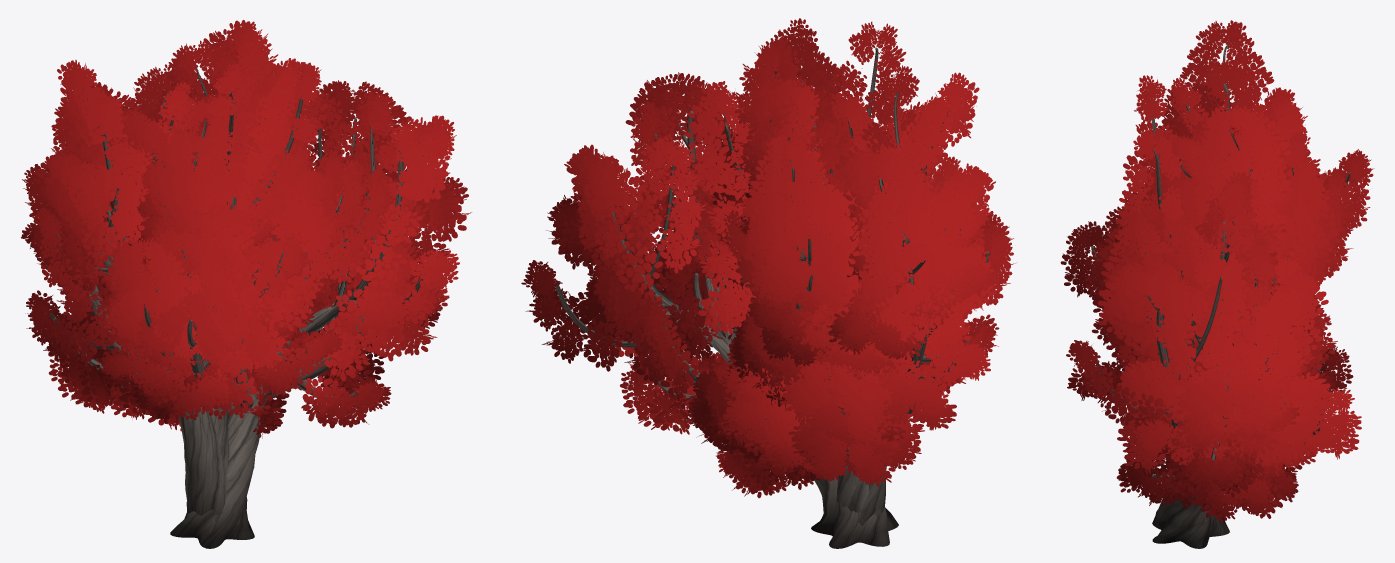
File: trees_twisted.glb
3 renders of one model, left to right at view 1: azimuth 30°, elevation 25°; view 2: azimuth 150°, elevation 25°; view 3: azimuth 270°, elevation 25°, orthographic. The views are drawn at different scales.
Visible parts, largest first — view 1: TwistedTree_2, TwistedTree_1, TwistedTree_3, TwistedTree_4, TwistedTree_5; view 2: TwistedTree_1, TwistedTree_2, TwistedTree_4, TwistedTree_3, TwistedTree_5; view 3: TwistedTree_1, TwistedTree_4, TwistedTree_2, TwistedTree_3, TwistedTree_5.
Boxes of the visible parts, x1,y1,x2,y2 form: TwistedTree_2: (21, 60, 321, 532); TwistedTree_1: (145, 60, 471, 548); TwistedTree_3: (48, 92, 396, 533); TwistedTree_4: (65, 20, 368, 532); TwistedTree_5: (91, 99, 347, 521); TwistedTree_1: (521, 72, 898, 548); TwistedTree_2: (723, 18, 1015, 522); TwistedTree_4: (712, 37, 939, 489); TwistedTree_3: (685, 99, 1013, 521); TwistedTree_5: (711, 119, 926, 525); TwistedTree_1: (1066, 171, 1361, 548); TwistedTree_4: (1082, 84, 1374, 380); TwistedTree_2: (1102, 20, 1320, 535); TwistedTree_3: (1060, 163, 1353, 513); TwistedTree_5: (1113, 166, 1352, 379).
Size of the model in its own units: 17.96 by 18.95 by 12.13.
2 materials, 2 textured.
